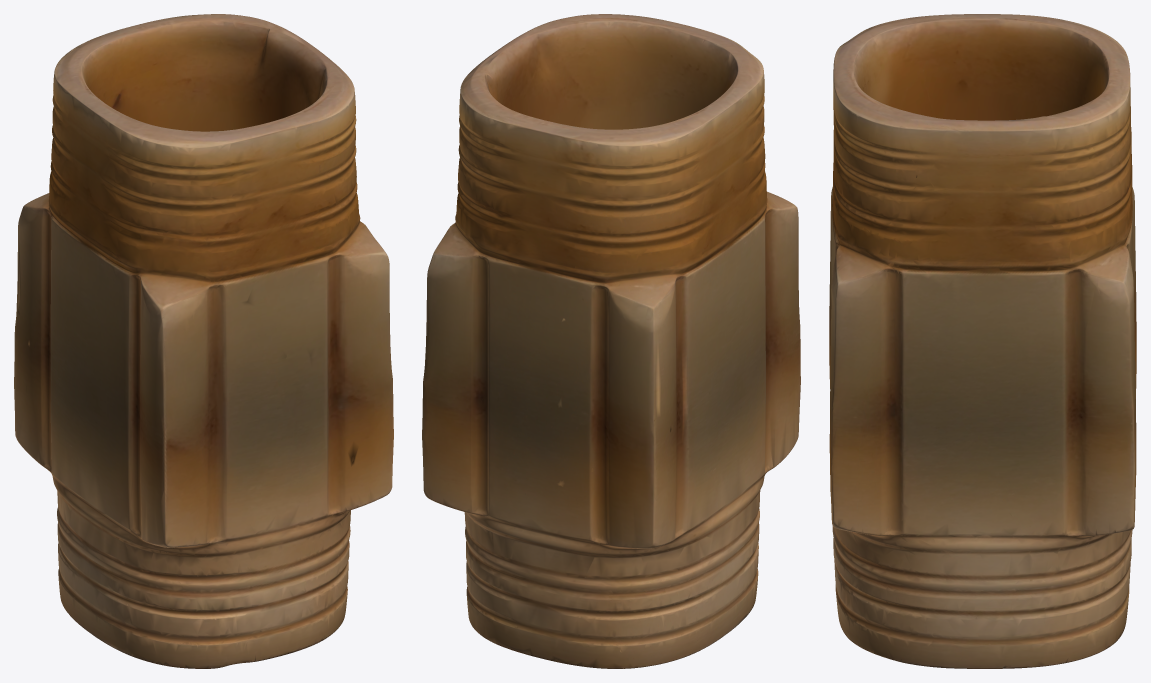
Rendered from fuhao-cord-detail.glb.
3 views of the same model, side by side, from view 1: azimuth 30°, elevation 25°; view 2: azimuth 150°, elevation 25°; view 3: azimuth 270°, elevation 25° (orthographic). The views are drawn at different scales.
Parts seen in each view (by area): view 1: node_0; view 2: node_0; view 3: node_0.
Boxes of the visible parts, x1,y1,x2,y2 form: node_0: (14, 14, 393, 668); node_0: (422, 14, 800, 668); node_0: (829, 14, 1136, 668).
Bounding box in the file's own units: 0.5005 × 1.08 × 0.547.
1 material, 1 textured.
